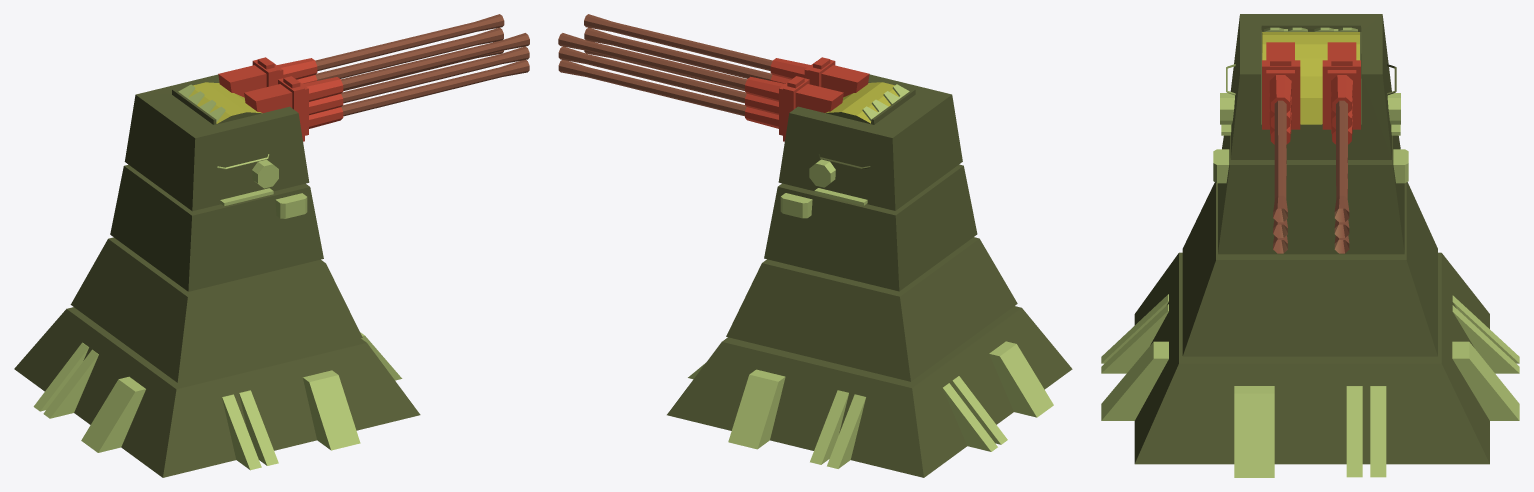
Rendered from Cannon-R-5.fbx.
3 views of the same model, side by side, from view 1: azimuth 30°, elevation 25°; view 2: azimuth 150°, elevation 25°; view 3: azimuth 270°, elevation 25° (orthographic). The views are drawn at different scales.
Parts seen in each view (by area): view 1: russian_level1_9:base, russian_level1_5:attack; view 2: russian_level1_9:base, russian_level1_5:attack; view 3: russian_level1_9:base, russian_level1_5:attack.
Part boxes in pixels (x1=…): russian_level1_9:base: x1=14, y1=74, x2=420, y2=477; russian_level1_5:attack: x1=218, y1=14, x2=529, y2=141; russian_level1_9:base: x1=667, y1=74, x2=1072, y2=477; russian_level1_5:attack: x1=558, y1=14, x2=869, y2=141; russian_level1_9:base: x1=1101, y1=14, x2=1519, y2=477; russian_level1_5:attack: x1=1262, y1=42, x2=1360, y2=253.
Size of the model in its own units: 1304 by 850 by 881.
